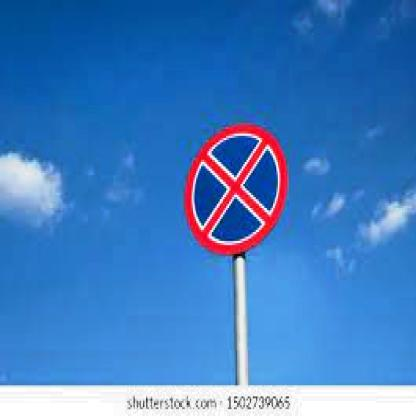No stopping: (183, 127, 288, 258)
